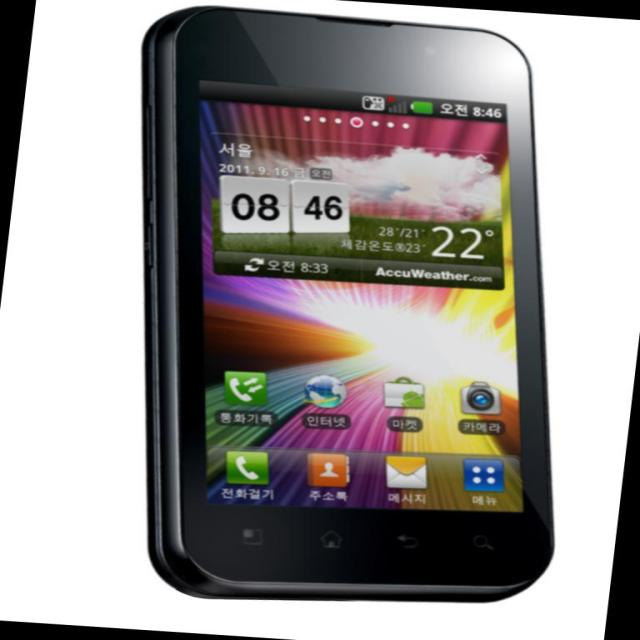handphone: (133, 14, 548, 598)
